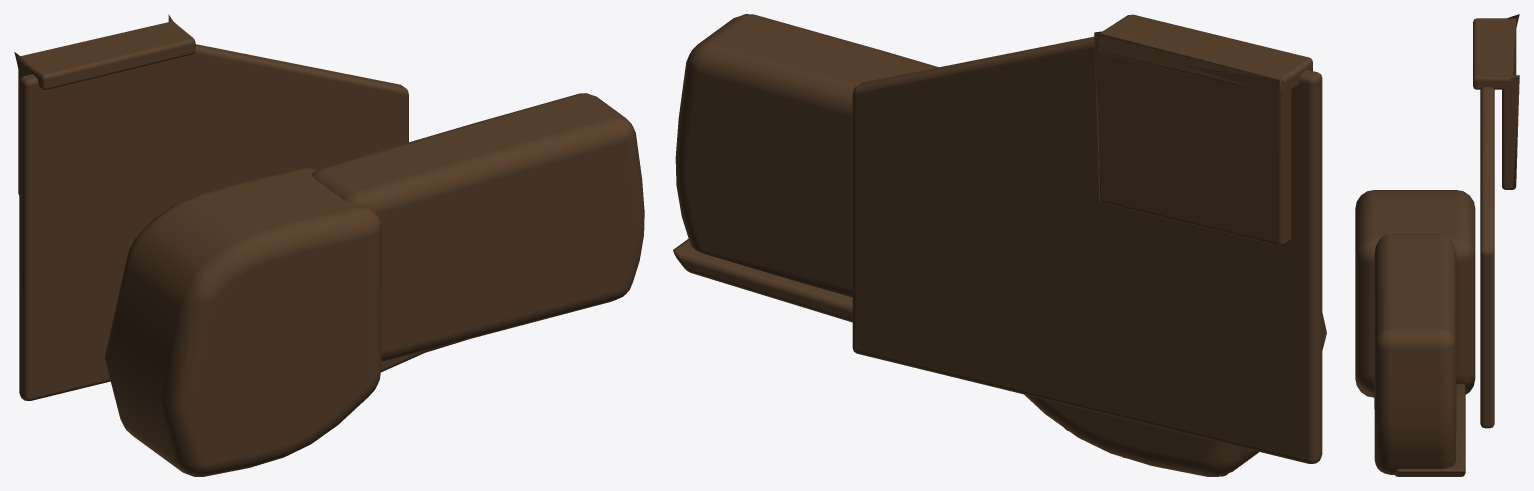
File: holster.glb
3 renders of one model, left to right at view 1: azimuth 30°, elevation 25°; view 2: azimuth 150°, elevation 25°; view 3: azimuth 270°, elevation 25°, orthographic. The views are drawn at different scales.
Visible parts, largest first — view 1: body-leather; view 2: body-leather; view 3: body-leather.
Part boxes in pixels (x1,y1,x2,y2): body-leather: (14, 14, 644, 476); body-leather: (673, 14, 1326, 476); body-leather: (1355, 14, 1519, 476).
Size of the model in its own units: 0.2184 by 0.1426 by 0.0685.
